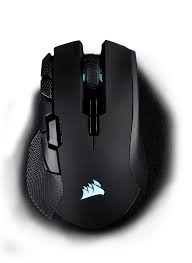mouse: (21, 29, 155, 232)
